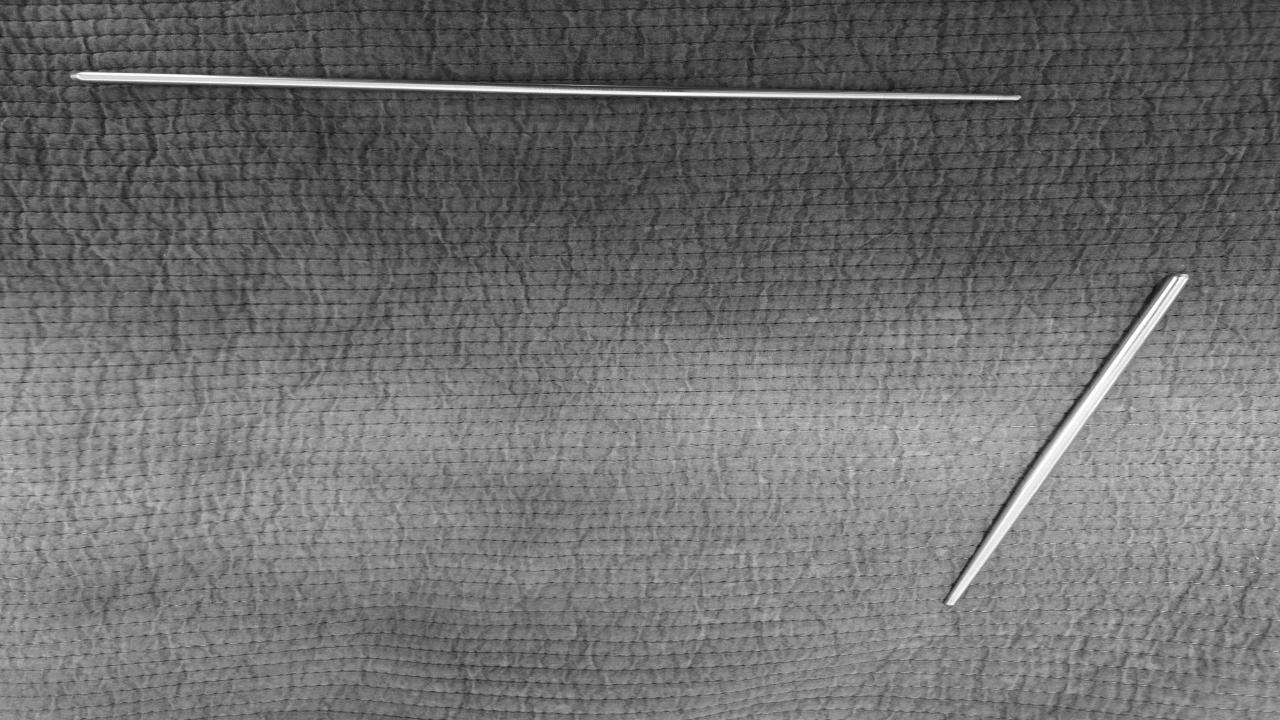chopstick: (942, 272, 1203, 612), (62, 65, 1030, 105)
